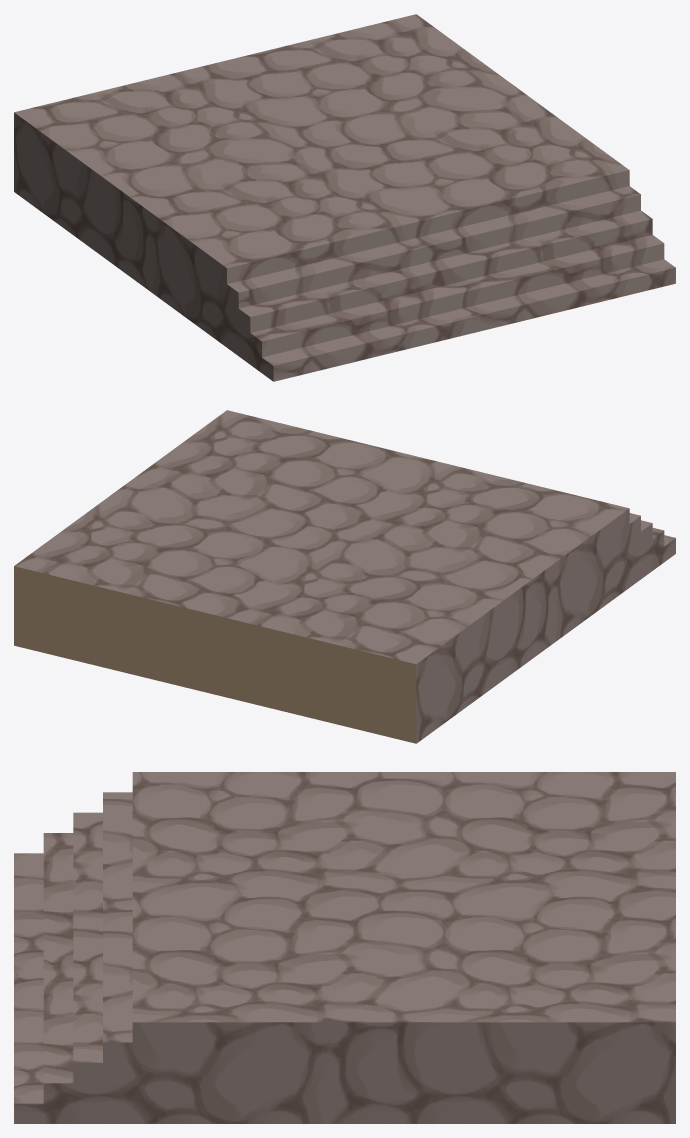
The model's file is schoolstairs.fbx.
3 renders of one model, top to bottom at view 1: azimuth 30°, elevation 25°; view 2: azimuth 150°, elevation 25°; view 3: azimuth 270°, elevation 25°, orthographic. The views are drawn at different scales.
Parts seen in each view (by area): view 1: stairs; view 2: stairs; view 3: stairs.
Part boxes in pixels (x1=…): stairs: x1=14, y1=14, x2=675, y2=381; stairs: x1=14, y1=410, x2=675, y2=743; stairs: x1=14, y1=772, x2=675, y2=1123.
Bounding box in the file's own units: 628 × 119 × 701.
Materials: 1 (1 with a texture image).
